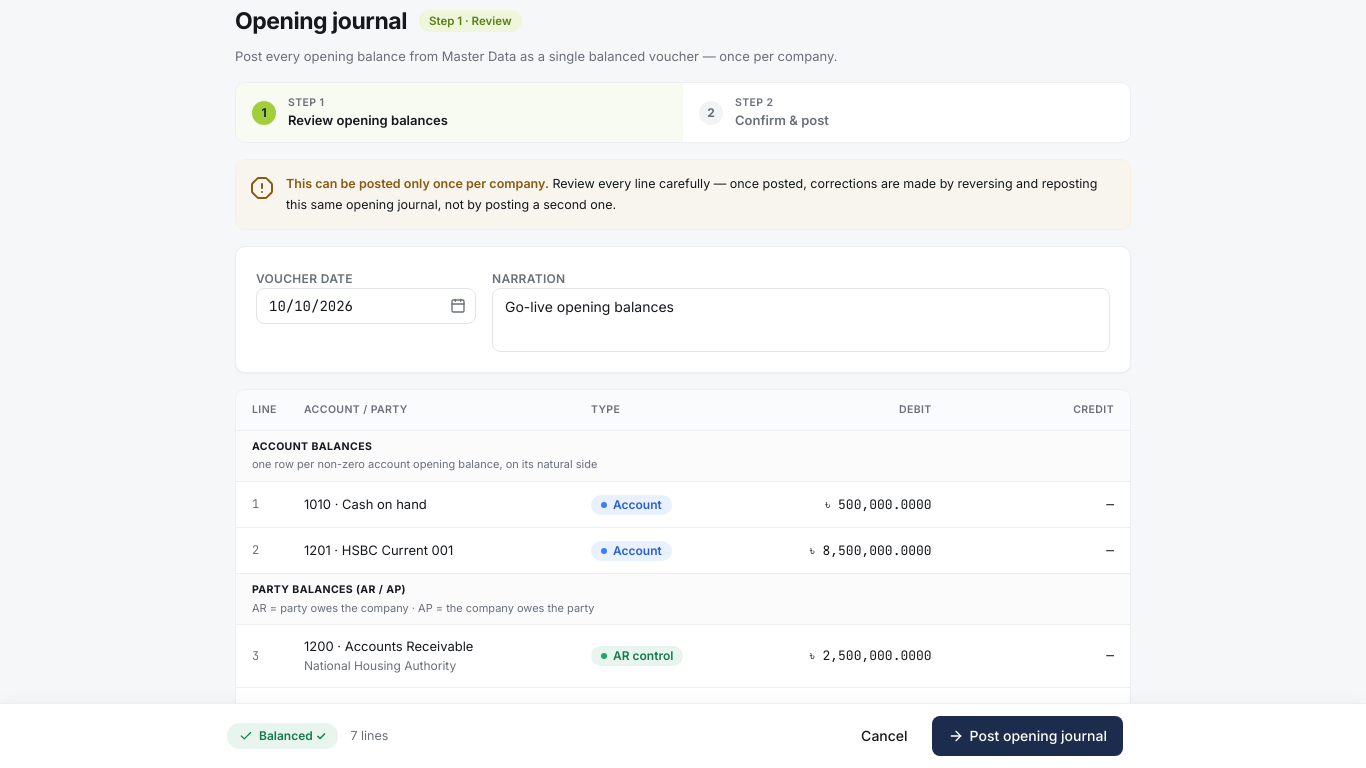
OpeningJournalWizard — Post flow (FR-GEN-012/-015) › maps OPENING_ALREADY_EXISTS to the reconciling banner + re-checks existing
Click the button with test id "opening-post".
click(1027, 736)  # box left=932, top=716, right=1123, bottom=756
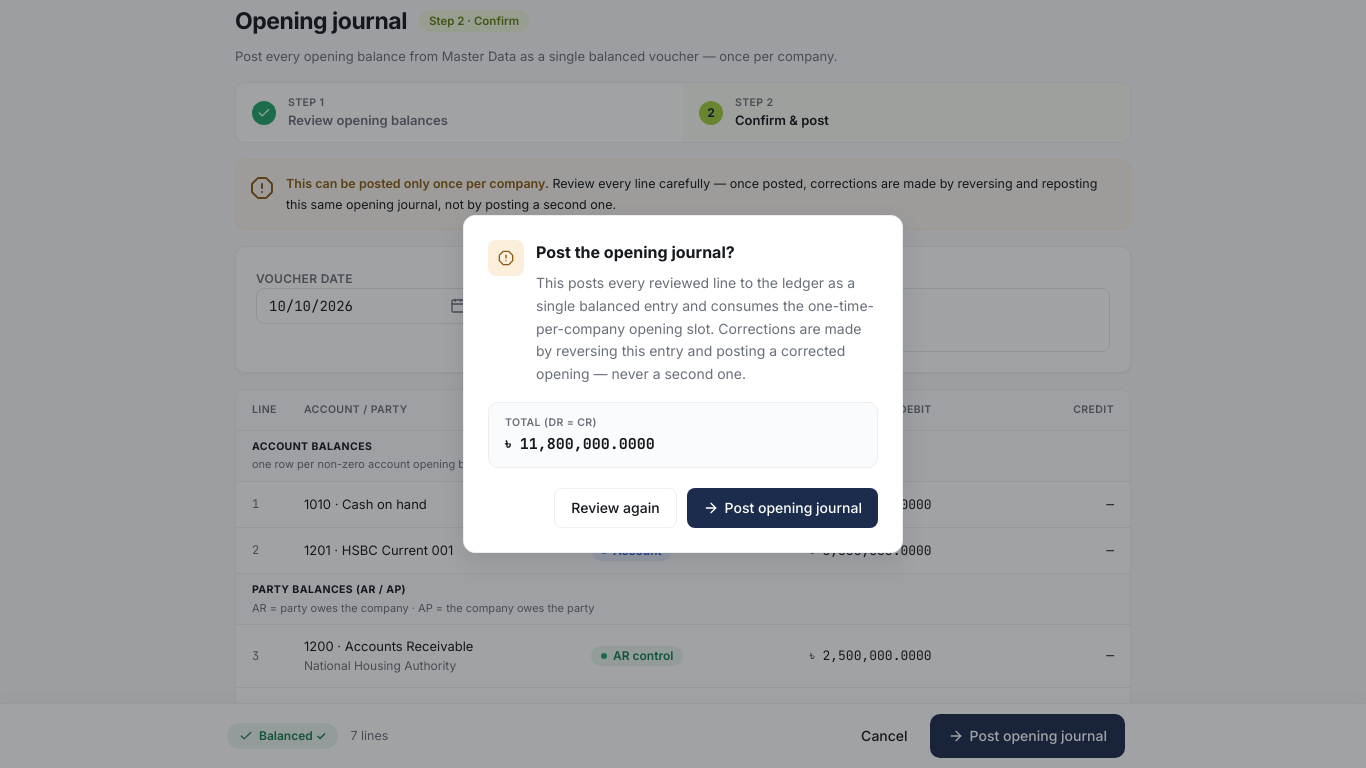
Click the button with test id "opening-post-confirm".
click(782, 508)  # box left=687, top=488, right=878, bottom=528
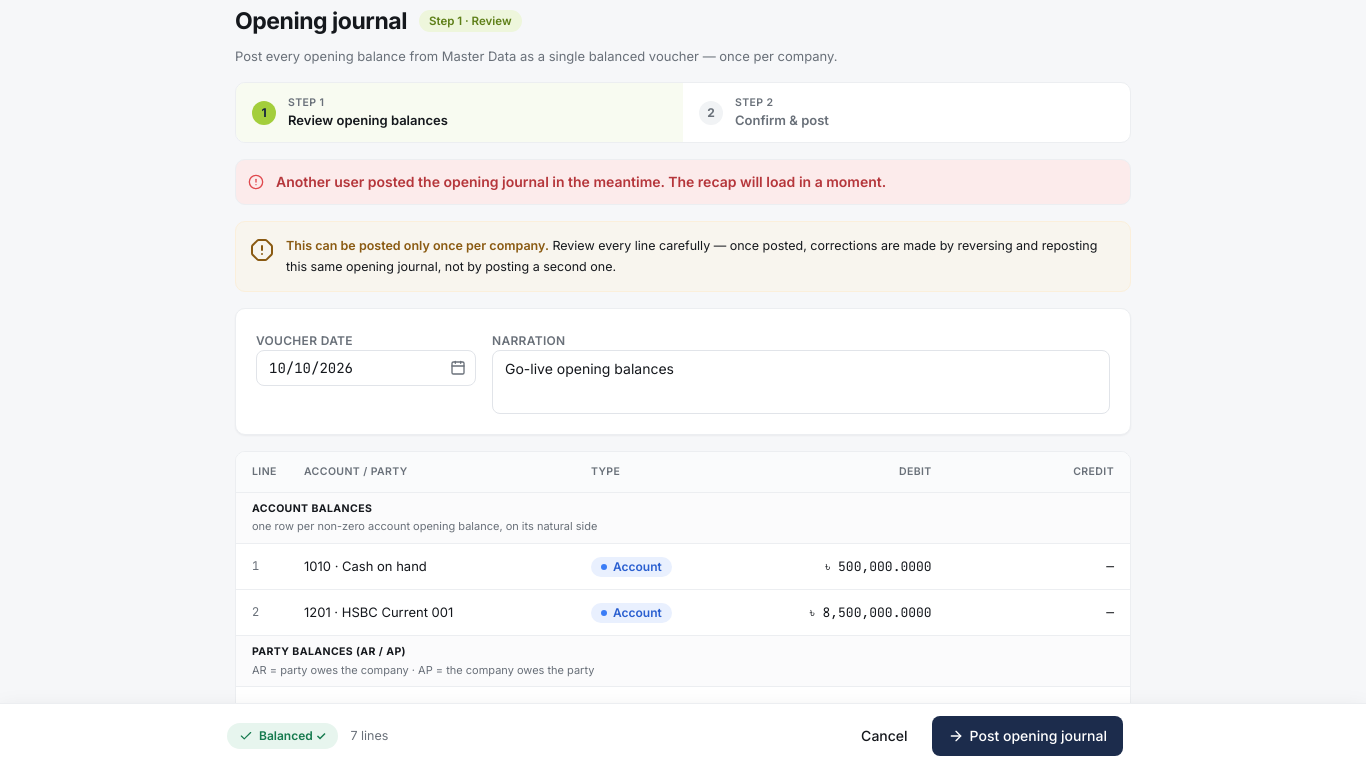
Expected: the message with test id "opening-banner" shows "Another user posted the opening journal", left=276, top=173, right=886, bottom=190
